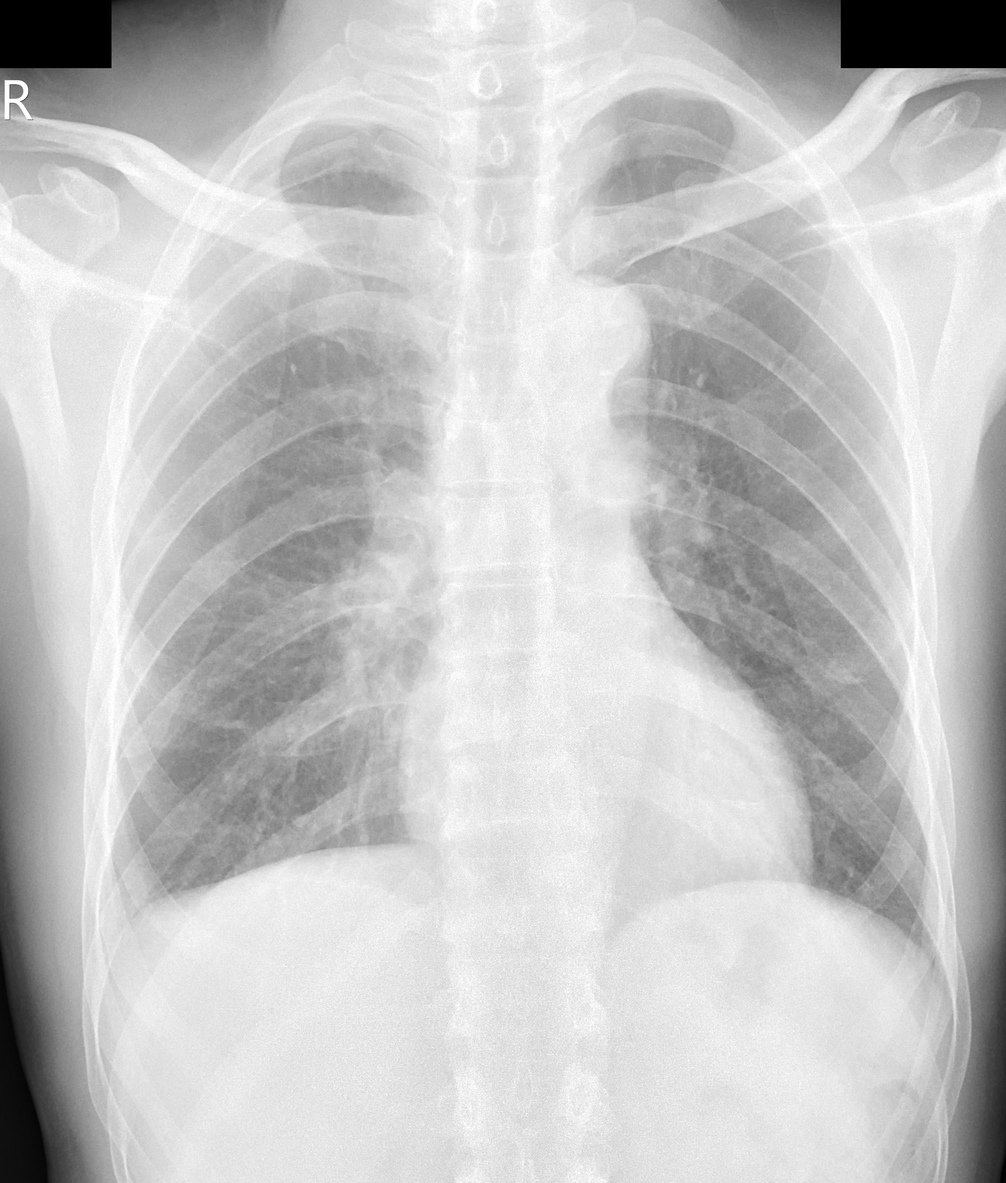Aortic enlargement: (529, 277, 657, 416)
Pleural thickening: (86, 878, 143, 951)
